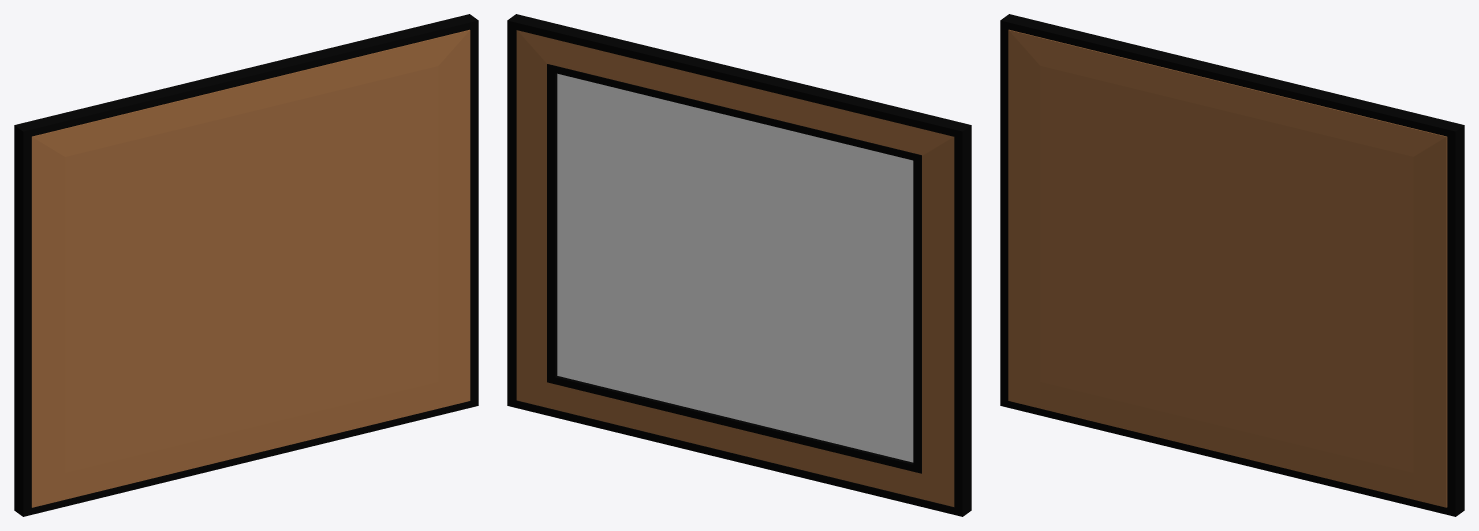
The model's file is tableau-paysage-moyen - Copie.glb.
The picture shows the model from 3 angles, left to right: view 1: azimuth 30°, elevation 25°; view 2: azimuth 150°, elevation 25°; view 3: azimuth 330°, elevation 25°; orthographic projection.
Parts seen in each view (by area): view 1: Cube.003; view 2: Cube.003; view 3: Cube.003.
Boxes of the visible parts, x1,y1,x2,y2 form: Cube.003: [14, 14, 478, 516]; Cube.003: [507, 14, 971, 516]; Cube.003: [1000, 14, 1464, 516].
Size of the model in its own units: 2.44 by 1.98 by 0.0978.
